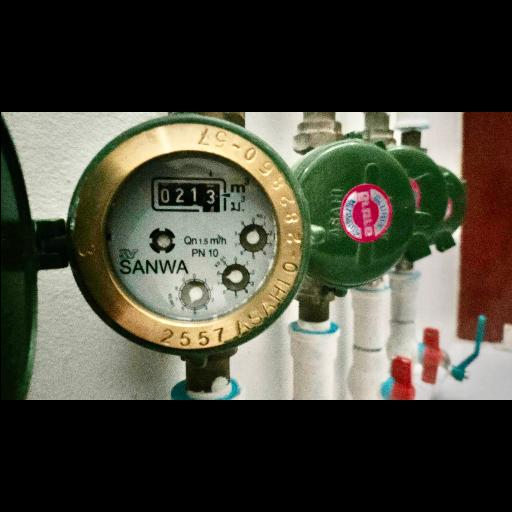0: (157, 182, 171, 206)
1: (186, 183, 201, 206)
2: (171, 183, 186, 206)
3: (201, 184, 219, 213)
border_water_meter_number: (150, 177, 227, 213)
